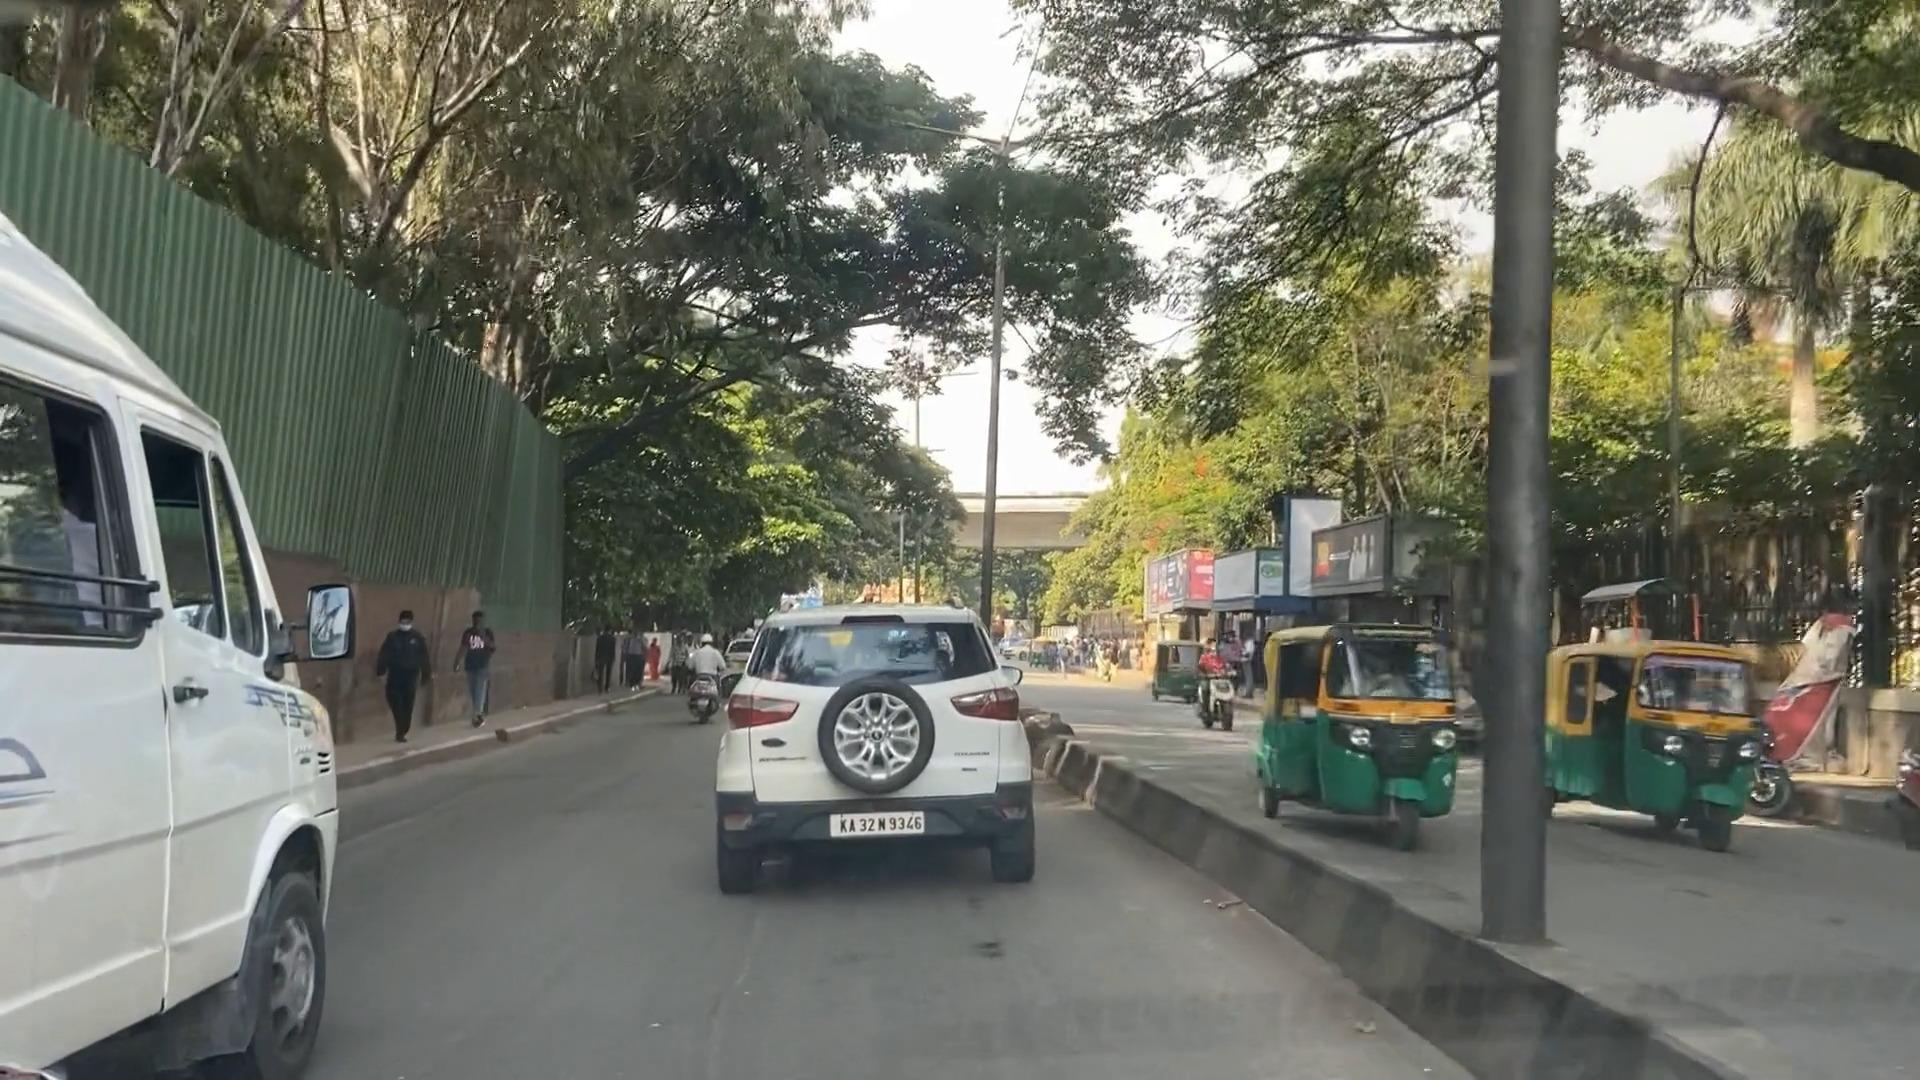HMV: (5, 220, 368, 1080)
LMV: (720, 568, 1050, 906)
